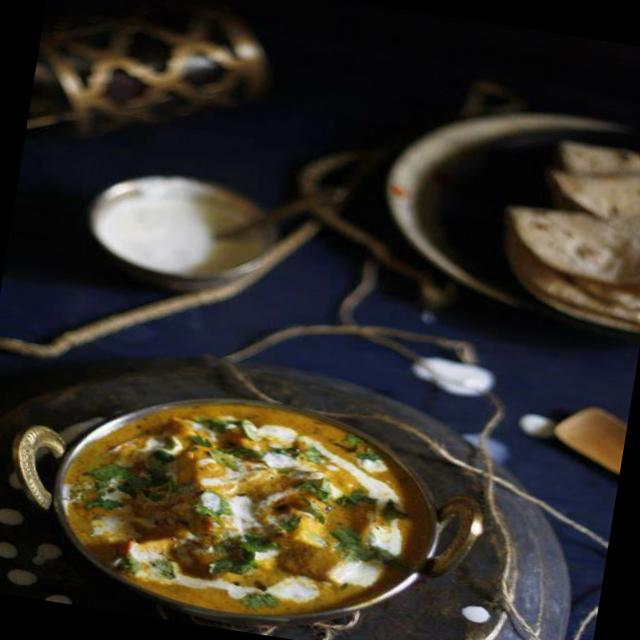ShahiPaneer: (54, 380, 443, 634)
